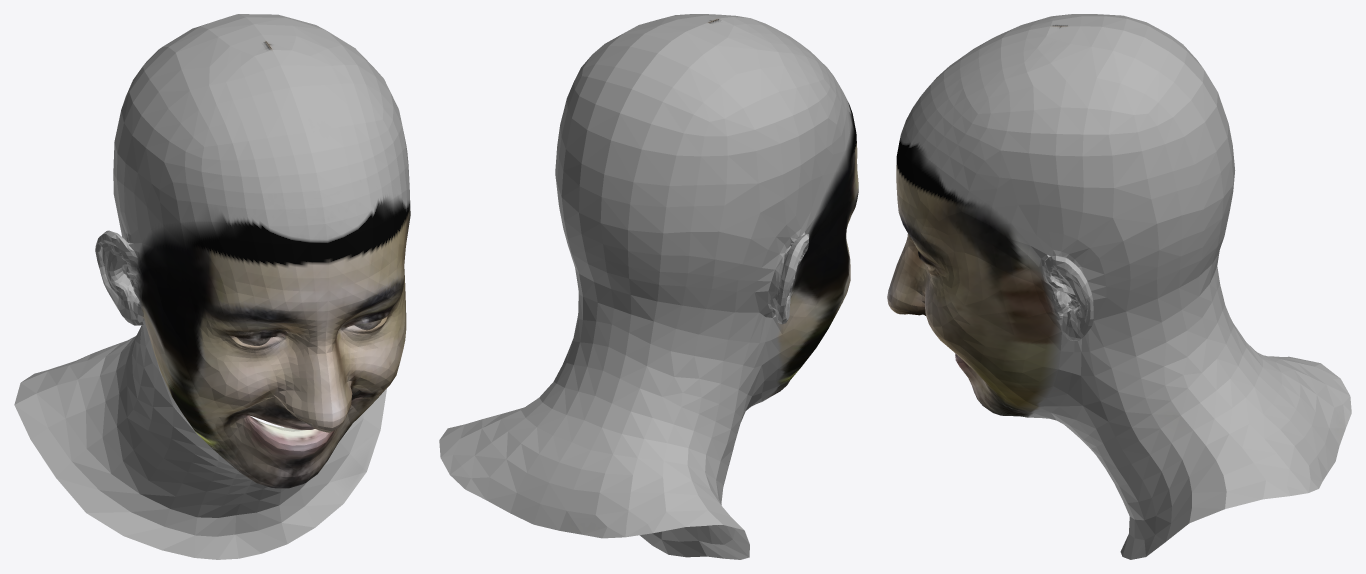
File: ezgif-frame-018.obj
3 views of the same model, side by side, from view 1: azimuth 30°, elevation 25°; view 2: azimuth 150°, elevation 25°; view 3: azimuth 270°, elevation 25° (orthographic). The views are drawn at different scales.
Size of the model in its own units: 0.2082 by 0.3279 by 0.2688.
1 material, 1 textured.
